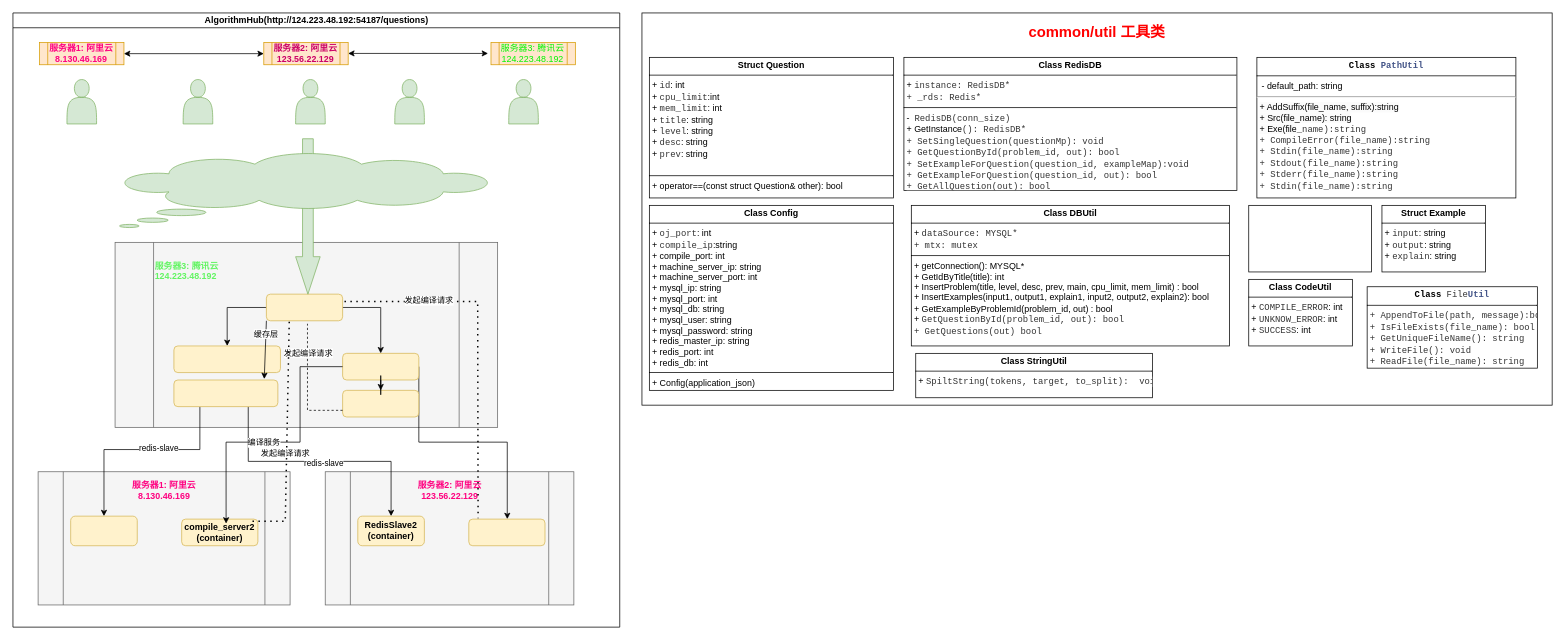
This 1565x640 diagram has some shape labels left out. The shapes that lost their labels are listed below. From the top down, each one's centre as x and y in pixels, then its label:
the point at 304,190: 网络
the point at 1310,238: ClassTimeUtil + GetTimeStamp():string // 获取毫秒时间戳,唯一文件名 + GetMStamp(): string
the point at 304,307: oj_server( 负载均衡 ) (container)
the point at 226,359: MySQL
the point at 380,366: machine_server (container)
the point at 225,393: Redis Master (Contanier)
the point at 380,403: compile_server1 (container)
the point at 103,530: RedisSlave1 (container)
the point at 506,532: compile_server3 (container)
